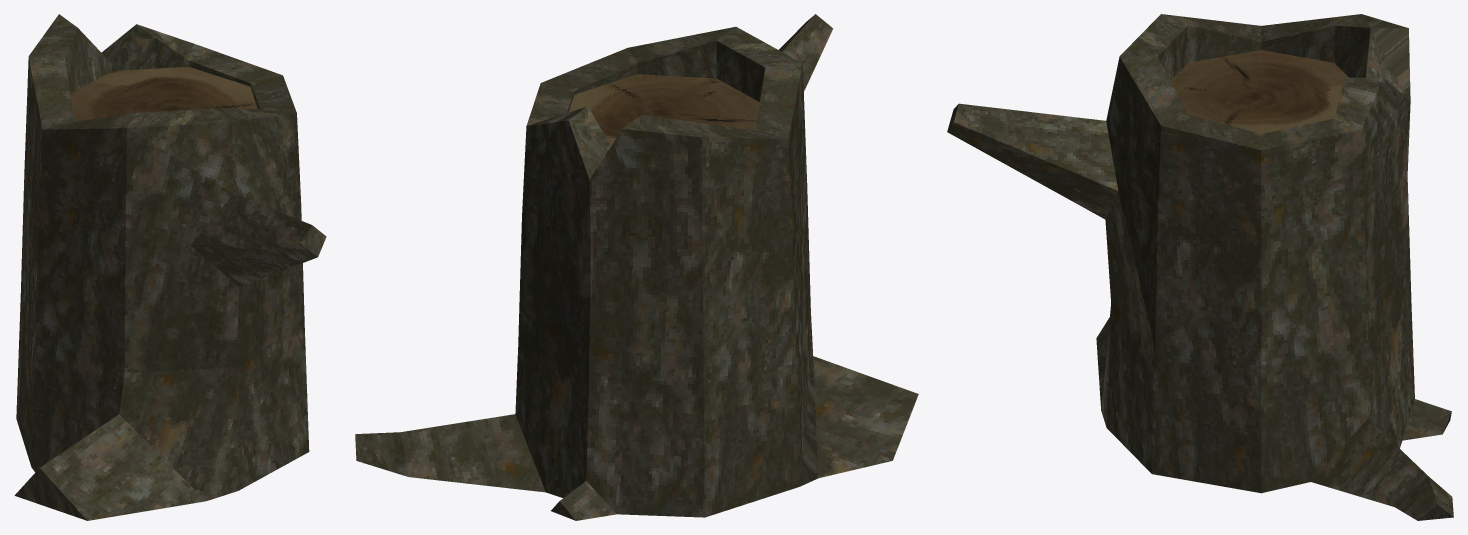
File: tree_stump1.glb
3 renders of one model, left to right at view 1: azimuth 30°, elevation 25°; view 2: azimuth 150°, elevation 25°; view 3: azimuth 270°, elevation 25°, orthographic. The views are drawn at different scales.
Parts seen in each view (by area): view 1: Cylinder; view 2: Cylinder; view 3: Cylinder.
Part boxes in pixels (x1=…): Cylinder: x1=14, y1=14, x2=326, y2=520; Cylinder: x1=355, y1=14, x2=918, y2=520; Cylinder: x1=947, y1=14, x2=1453, y2=520.
Size of the model in its own units: 0.456 by 0.4105 by 0.4911.
Materials: 2 (2 with a texture image).
